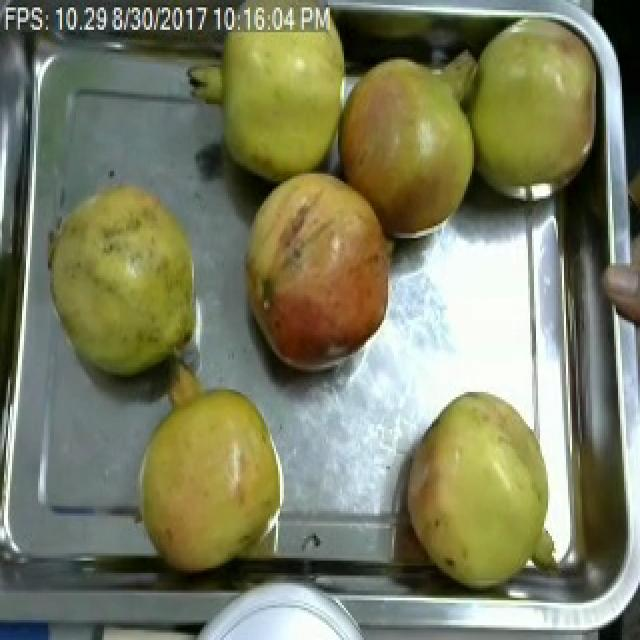fruit: (36, 154, 208, 387), (236, 156, 404, 382), (168, 0, 360, 196), (124, 367, 294, 581), (398, 380, 556, 596), (328, 45, 484, 258), (462, 7, 612, 216)
